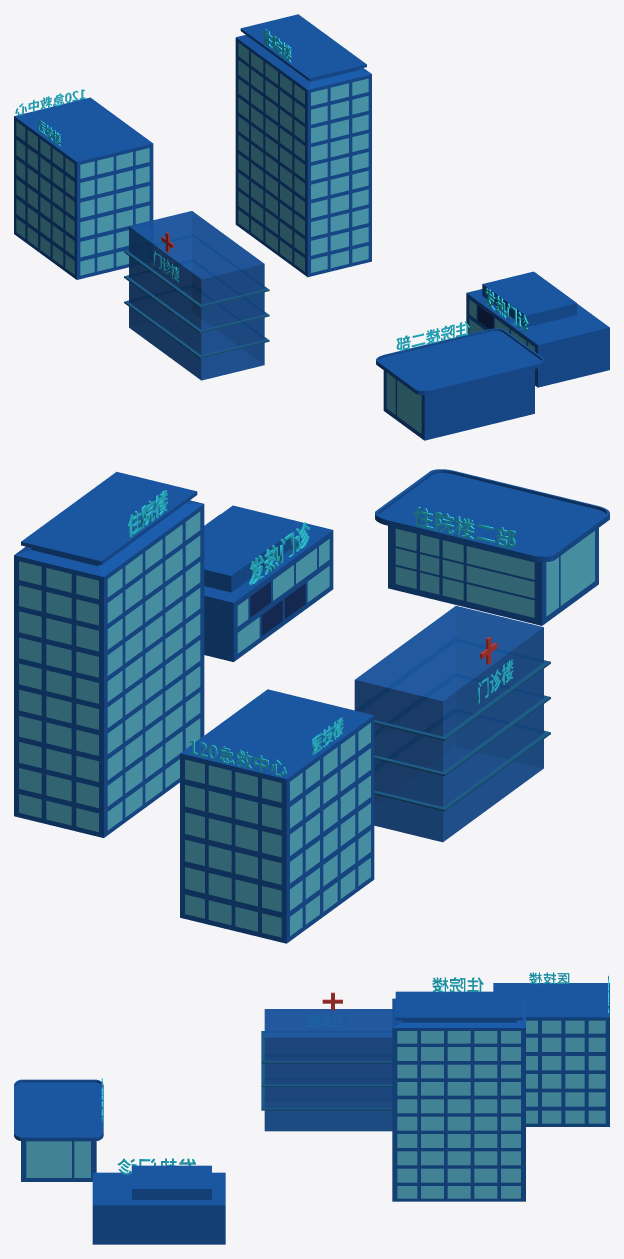
The model's file is hospital.glb.
3 views of the same model, one above another, from view 1: azimuth 30°, elevation 25°; view 2: azimuth 150°, elevation 25°; view 3: azimuth 270°, elevation 25° (orthographic). The views are drawn at different scales.
Parts seen in each view (by area): view 1: Cube.003, Cube, Cube.001, Cube.005, Cube.008, Cube.004, Cube.006, Cube.007, Text.005, Text.004; view 2: Cube.003, Cube, Cube.001, Cube.005, Cube.008, Cube.004, Cube.006, Cube.007, Text.005, Text.004, Text.001, Text.003; view 3: Cube.003, Cube.001, Cube, Cube.004, Cube.008, Cube.006, Cube.005, Cube.007, Text.003, Text.004.
Boxes of the visible parts, bbox=[...] form: Cube.003: bbox=[235, 35, 371, 277]; Cube: bbox=[14, 97, 153, 279]; Cube.001: bbox=[124, 211, 269, 380]; Cube.005: bbox=[383, 369, 534, 440]; Cube.008: bbox=[376, 328, 544, 394]; Cube.004: bbox=[466, 289, 609, 387]; Cube.006: bbox=[240, 14, 366, 80]; Cube.007: bbox=[482, 271, 576, 327]; Text.005: bbox=[396, 321, 469, 351]; Text.004: bbox=[484, 288, 528, 331]; Cube.003: bbox=[14, 500, 204, 837]; Cube: bbox=[180, 689, 374, 943]; Cube.001: bbox=[354, 606, 550, 842]; Cube.005: bbox=[388, 526, 598, 625]; Cube.008: bbox=[375, 469, 609, 561]; Cube.004: bbox=[204, 505, 333, 661]; Cube.006: bbox=[21, 471, 197, 564]; Cube.007: bbox=[204, 514, 291, 592]; Text.005: bbox=[413, 506, 515, 548]; Text.004: bbox=[249, 522, 310, 585]; Text.001: bbox=[189, 740, 286, 776]; Text.003: bbox=[128, 490, 167, 537]; Cube.003: bbox=[392, 998, 525, 1201]; Cube.001: bbox=[261, 1009, 392, 1131]; Cube: bbox=[493, 983, 609, 1126]; Cube.004: bbox=[92, 1172, 225, 1244]; Cube.008: bbox=[14, 1079, 103, 1141]; Cube.006: bbox=[395, 991, 522, 1020]; Cube.005: bbox=[21, 1141, 96, 1181]; Cube.007: bbox=[132, 1165, 211, 1199]; Text.003: bbox=[432, 977, 483, 992]; Text.004: bbox=[117, 1158, 195, 1174].
Bounding box in the file's own units: 25.57 × 17.08 × 44.57.
